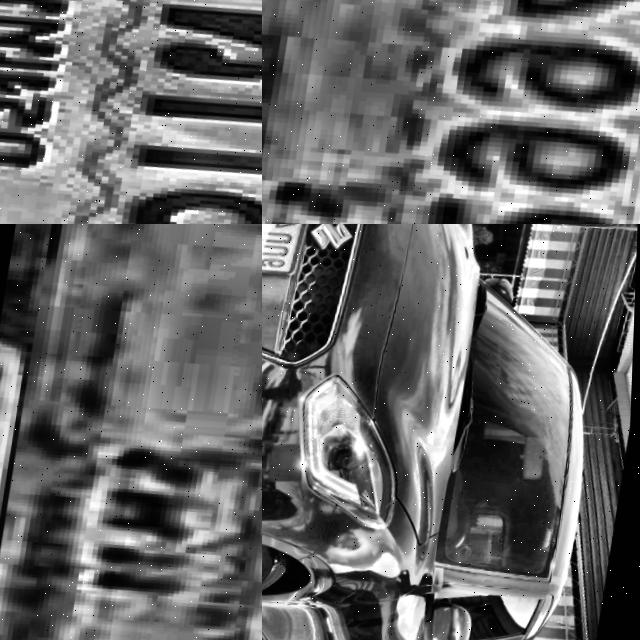license-plate: (0, 224, 262, 640), (262, 0, 640, 224), (0, 0, 262, 224), (262, 224, 317, 285)
